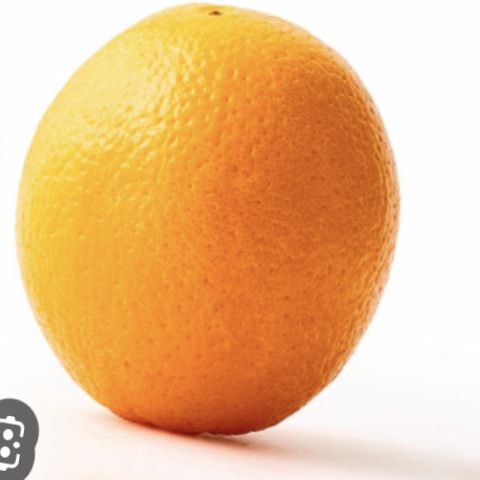orange: (0, 0, 470, 480)
